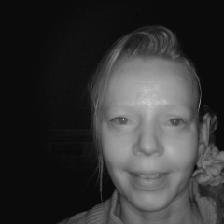happy: (84, 31, 219, 214)
